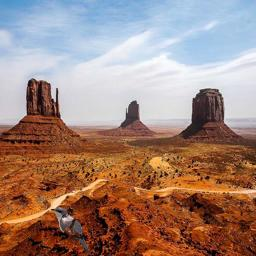Cuckoo: (49, 206, 89, 254)
